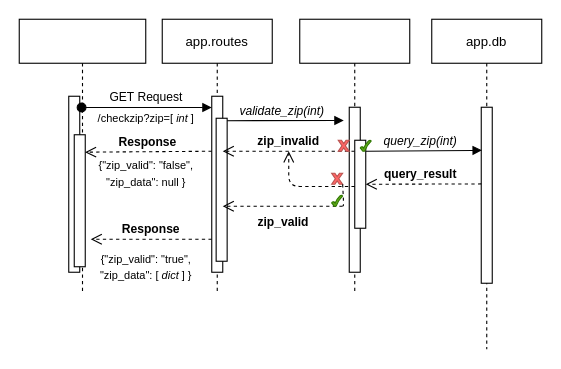
This 561x369 diagram has some shape labels left out. Here are the shapes that lost their labels. From the top down, the box of each, then its label:
(18, 18, 146, 294): Client
(299, 18, 410, 294): app.services
